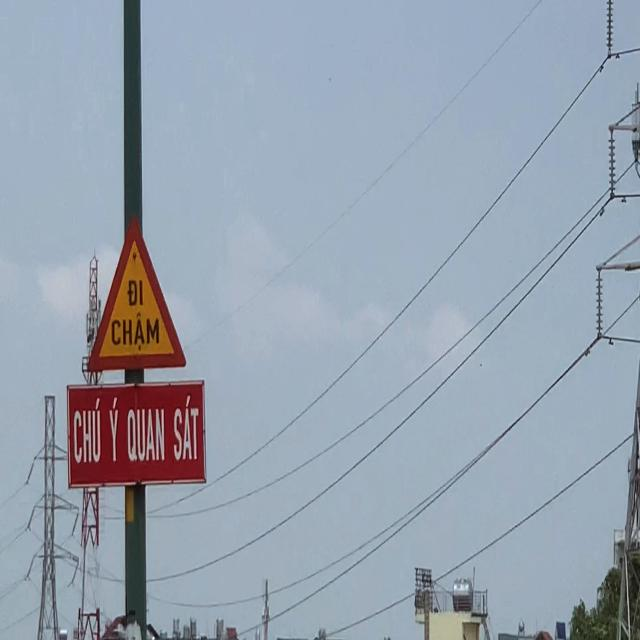Nguy hiem: (86, 213, 189, 374)
